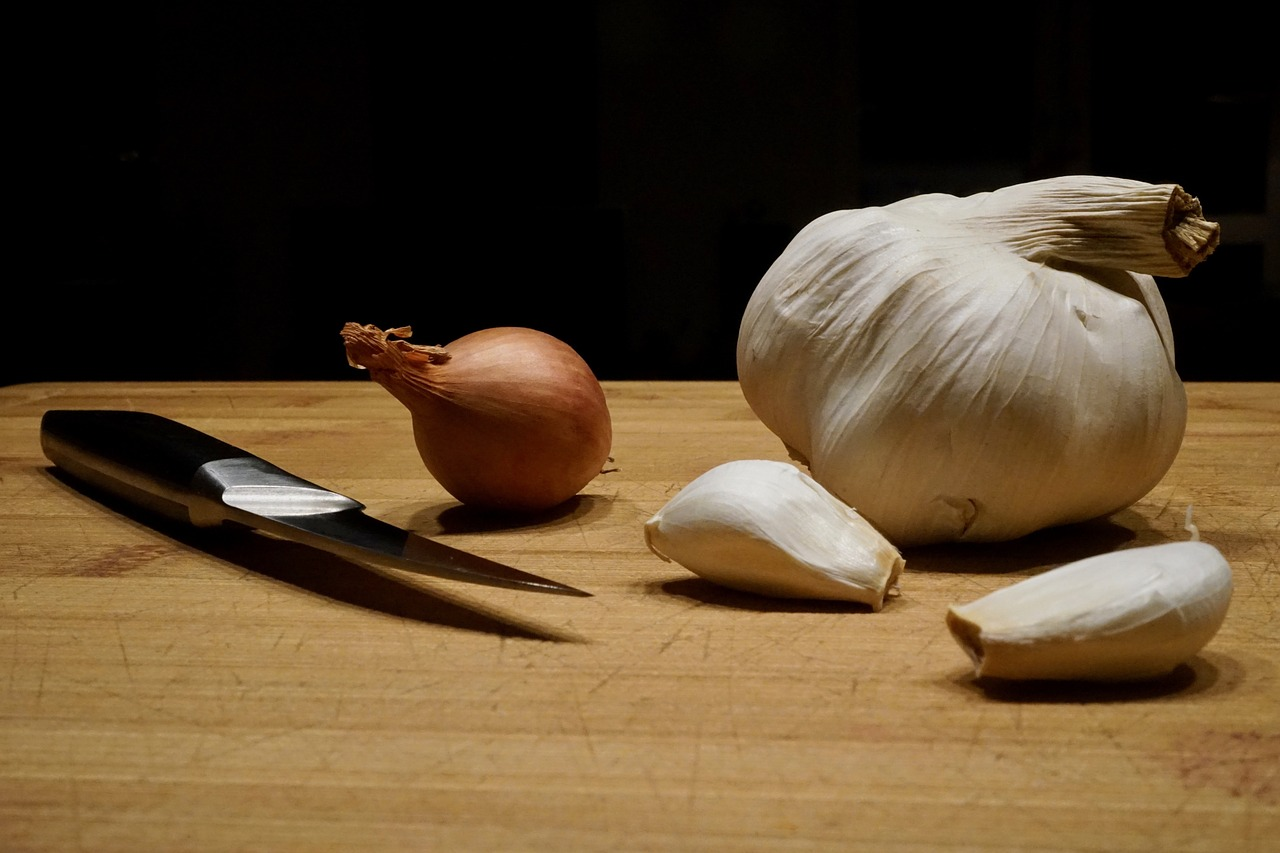knife: (37, 408, 597, 612)
